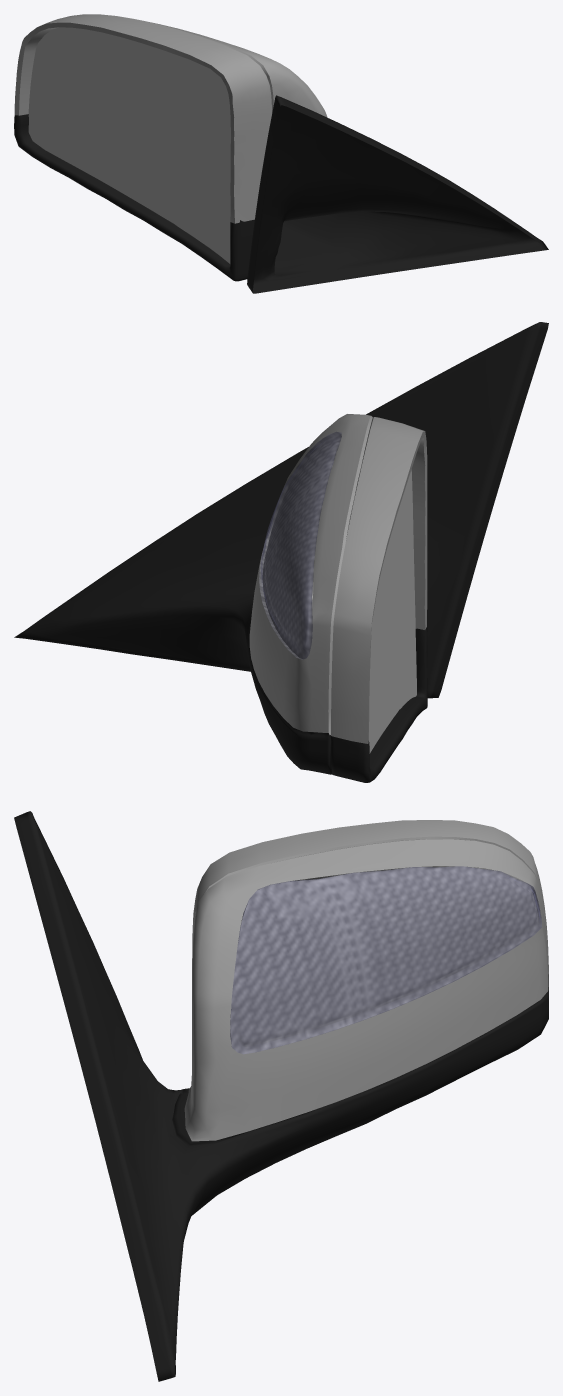
3 views of the same model, one above another, from view 1: azimuth 30°, elevation 25°; view 2: azimuth 150°, elevation 25°; view 3: azimuth 270°, elevation 25° (orthographic). The views are drawn at different scales.
Parts seen in each view (by area): view 1: X3144_261I_L_X3144_261I_L_1_D, X3144_261I_L_X3144_261I_L_5_DTaSI, X3144_261I_L_X3144_261I_L_2_DaS, X3144_261I_L_X3144_261I_L_2_DaS_E; view 2: X3144_261I_L_X3144_261I_L_1_D, X3144_261I_L_X3144_261I_L_2_DaS, X3144_261I_L_3_N_X3144_261I_L, X3144_261I_L_X3144_261I_L_4_DTaSI, X3144_261I_L_X3144_261I_L_5_DTaSI, X3144_261I_L_X3144_261I_L_2_DaS_E; view 3: X3144_261I_L_X3144_261I_L_2_DaS, X3144_261I_L_X3144_261I_L_1_D, X3144_261I_L_3_N_X3144_261I_L, X3144_261I_L_X3144_261I_L_4_DTaSI, X3144_261I_L_X3144_261I_L_2_DaS_E.
Part boxes in pixels (<box>): X3144_261I_L_X3144_261I_L_1_D: <box>14,95,548,293</box>; X3144_261I_L_X3144_261I_L_5_DTaSI: <box>28,27,230,263</box>; X3144_261I_L_X3144_261I_L_2_DaS: <box>19,14,327,223</box>; X3144_261I_L_X3144_261I_L_2_DaS_E: <box>14,14,273,223</box>; X3144_261I_L_X3144_261I_L_1_D: <box>14,322,548,782</box>; X3144_261I_L_X3144_261I_L_2_DaS: <box>249,414,425,743</box>; X3144_261I_L_3_N_X3144_261I_L: <box>259,432,341,659</box>; X3144_261I_L_X3144_261I_L_4_DTaSI: <box>259,432,341,659</box>; X3144_261I_L_X3144_261I_L_5_DTaSI: <box>369,469,416,753</box>; X3144_261I_L_X3144_261I_L_2_DaS_E: <box>328,416,427,742</box>; X3144_261I_L_X3144_261I_L_2_DaS: <box>184,820,548,1141</box>; X3144_261I_L_X3144_261I_L_1_D: <box>14,811,548,1381</box>; X3144_261I_L_3_N_X3144_261I_L: <box>230,866,541,1054</box>; X3144_261I_L_X3144_261I_L_4_DTaSI: <box>230,866,541,1053</box>; X3144_261I_L_X3144_261I_L_2_DaS_E: <box>192,836,548,973</box>.
Size of the model in its own units: 41.03 by 26.85 by 36.15.
